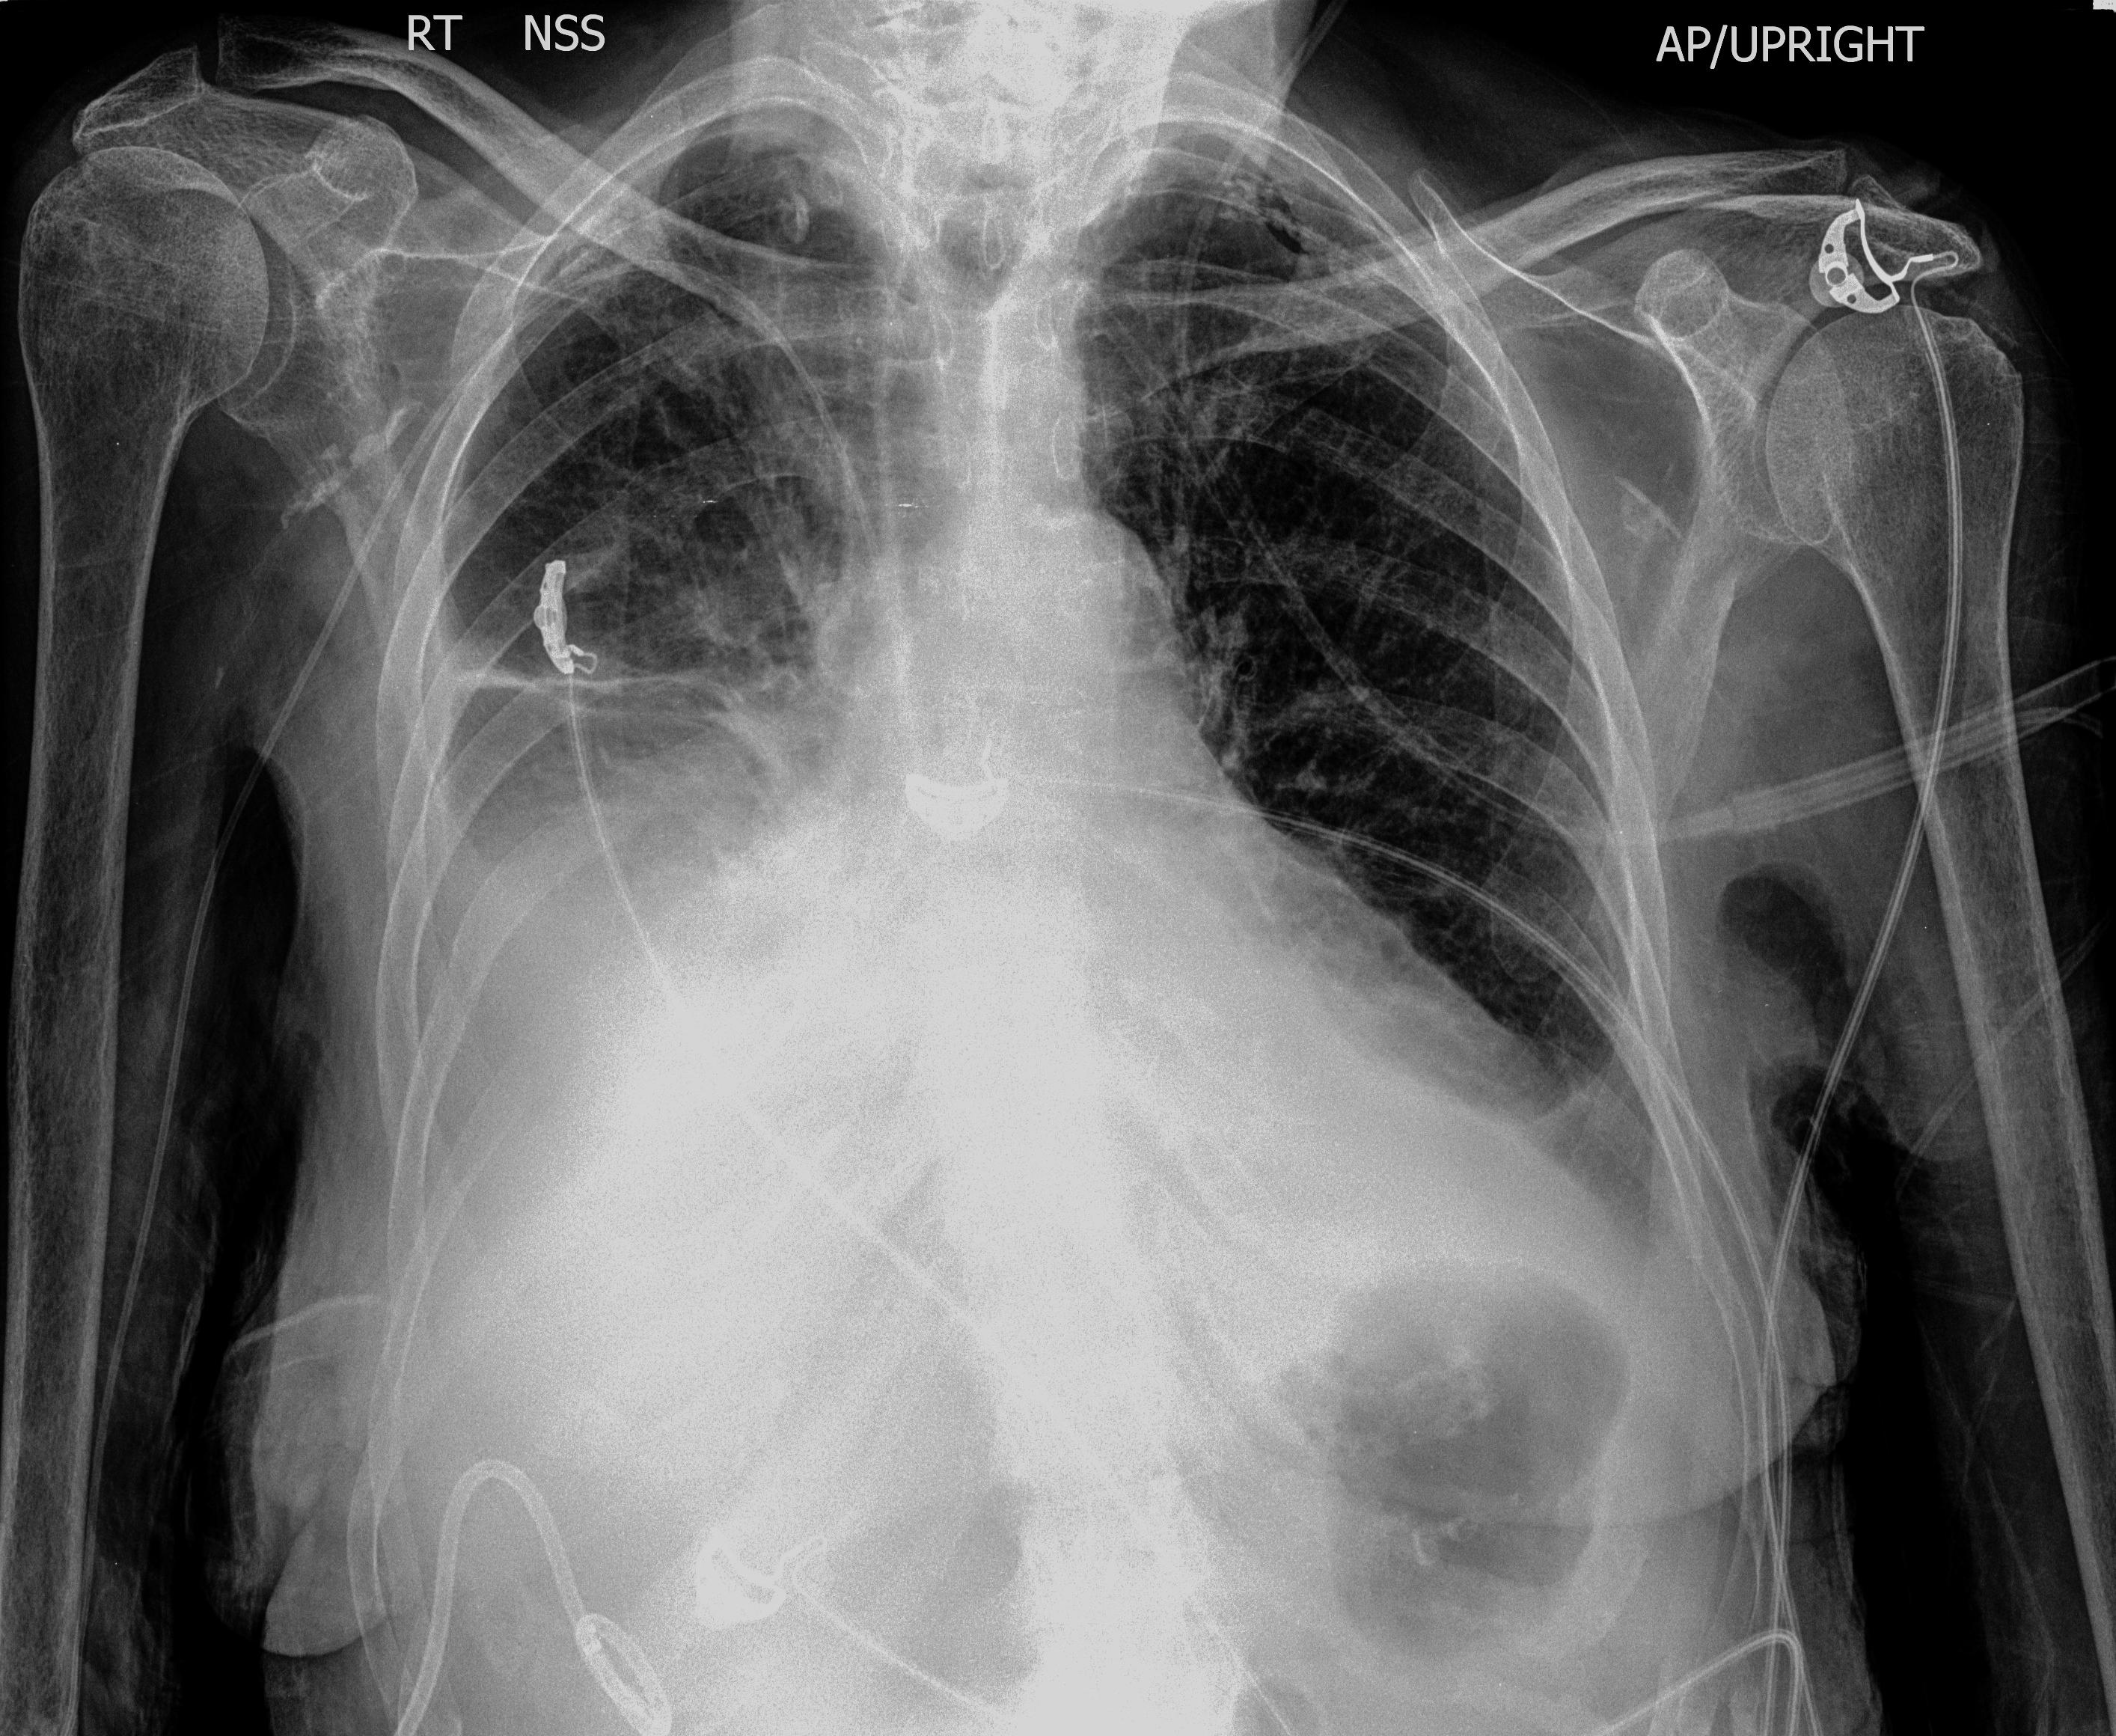Pleural Effusion: (341, 733, 789, 1237)
